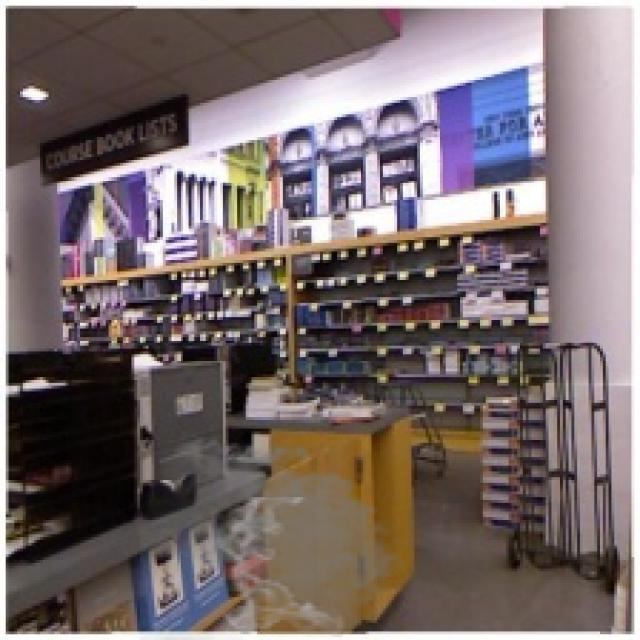Smoke: (140, 432, 420, 637)
